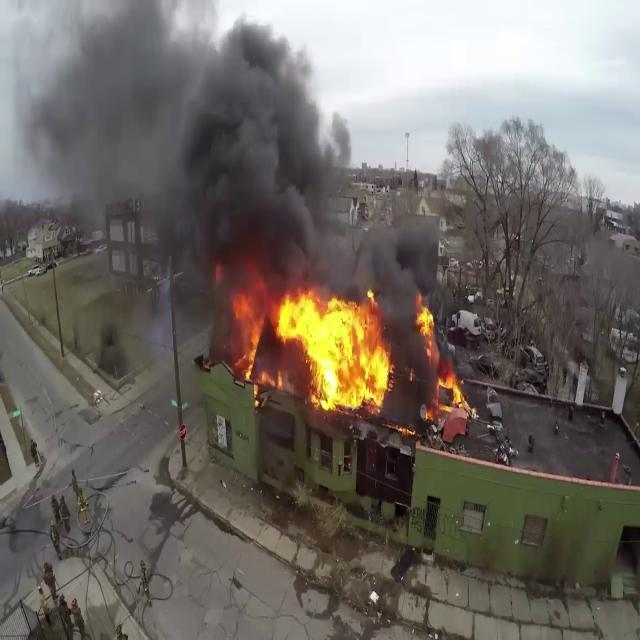Fire: (237, 283, 397, 413), (430, 368, 478, 419)
Smoke: (5, 0, 355, 286)
